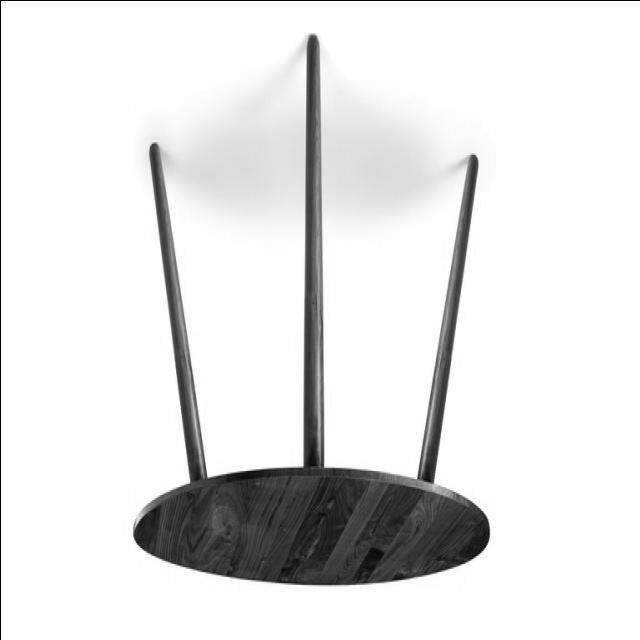table: (133, 32, 490, 587)
